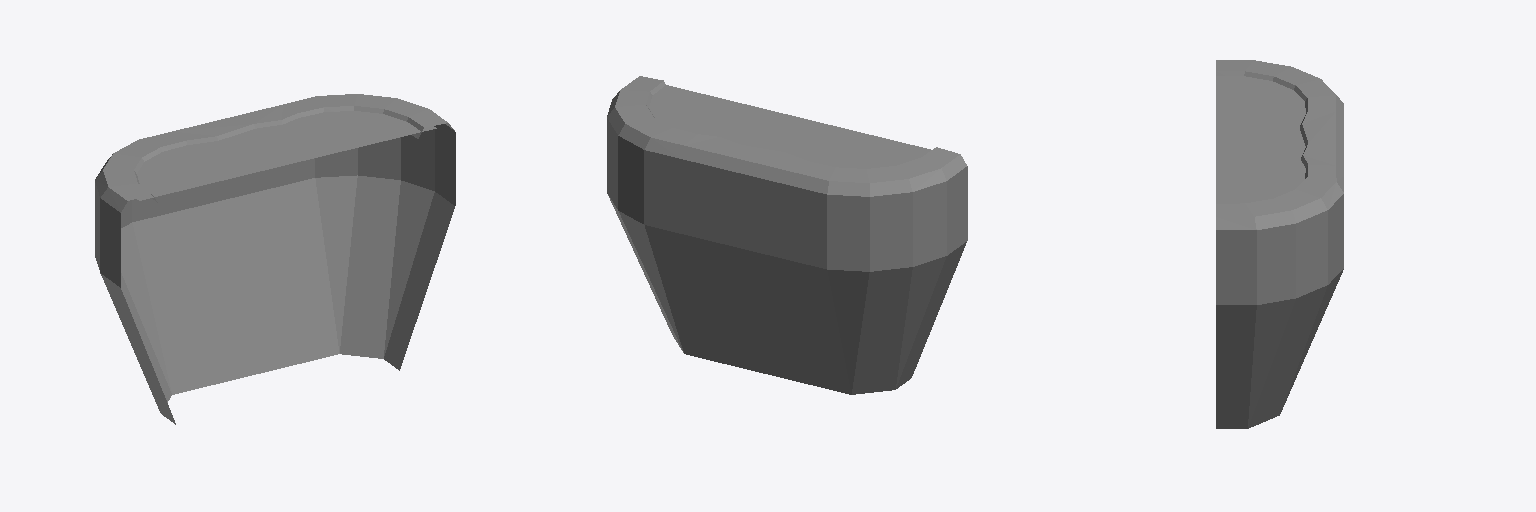
File: module_end_c.obj
3 views of the same model, side by side, from view 1: azimuth 30°, elevation 25°; view 2: azimuth 150°, elevation 25°; view 3: azimuth 270°, elevation 25° (orthographic).
Parts seen in each view (by area): view 1: module_end_c; view 2: module_end_c; view 3: module_end_c.
Part boxes in pixels (left/top/right/bottom): module_end_c: left=95, top=94, right=455, bottom=424; module_end_c: left=607, top=76, right=967, bottom=394; module_end_c: left=1216, top=60, right=1343, bottom=428.
Bounding box in the file's own units: 600 × 406 × 200.